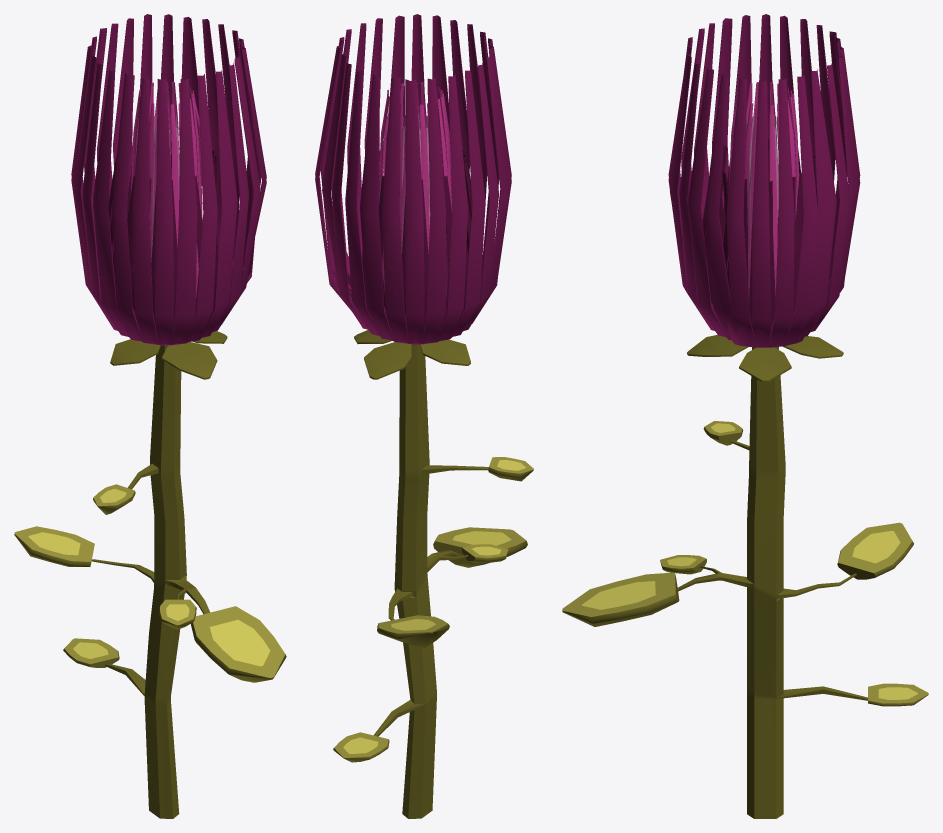
The model's file is Planta Fechada_8H.fbx.
3 views of the same model, side by side, from view 1: azimuth 30°, elevation 25°; view 2: azimuth 150°, elevation 25°; view 3: azimuth 270°, elevation 25° (orthographic).
Visible parts, largest first — view 1: pCylinder6, pCube4, pCube5, pCylinder1, pCylinder5, pCube8, pCube7, pCube6, pCube2, pCylinder2; view 2: pCylinder6, pCube4, pCylinder1, pCylinder5, pCube5, pCube8, pCube7, pCube2, pCube6, pCylinder2; view 3: pCylinder6, pCube4, pCube5, pCylinder1, pCylinder5, pCube8, pCube7, pCube6, pCylinder2, pCube2.
Boxes of the visible parts, left/top/right/bottom form: pCylinder6: left=71, top=14, right=266, bottom=345; pCube4: left=91, top=331, right=227, bottom=818; pCube5: left=191, top=606, right=286, bottom=682; pCylinder1: left=130, top=82, right=202, bottom=298; pCylinder5: left=108, top=142, right=218, bottom=331; pCube8: left=14, top=526, right=94, bottom=566; pCube7: left=63, top=638, right=119, bottom=667; pCube6: left=159, top=599, right=196, bottom=629; pCube2: left=93, top=484, right=135, bottom=514; pCylinder2: left=149, top=115, right=179, bottom=262; pCylinder6: left=315, top=14, right=511, bottom=344; pCube4: left=354, top=330, right=488, bottom=818; pCylinder1: left=379, top=82, right=452, bottom=301; pCylinder5: left=361, top=146, right=472, bottom=332; pCube5: left=433, top=527, right=527, bottom=567; pCube8: left=377, top=615, right=449, bottom=647; pCube7: left=333, top=732, right=389, bottom=762; pCube2: left=488, top=457, right=533, bottom=481; pCube6: left=461, top=544, right=508, bottom=563; pCylinder2: left=401, top=114, right=430, bottom=253; pCylinder6: left=668, top=14, right=860, bottom=347; pCube4: left=677, top=335, right=867, bottom=818; pCube5: left=562, top=572, right=679, bottom=626; pCylinder1: left=727, top=82, right=799, bottom=303; pCylinder5: left=702, top=138, right=817, bottom=325; pCube8: left=837, top=522, right=913, bottom=579; pCube7: left=868, top=683, right=928, bottom=706; pCube6: left=660, top=555, right=706, bottom=574; pCylinder2: left=746, top=115, right=778, bottom=287; pCube2: left=703, top=421, right=743, bottom=445.
Size of the model in its own units: 310 by 1256 by 543.
